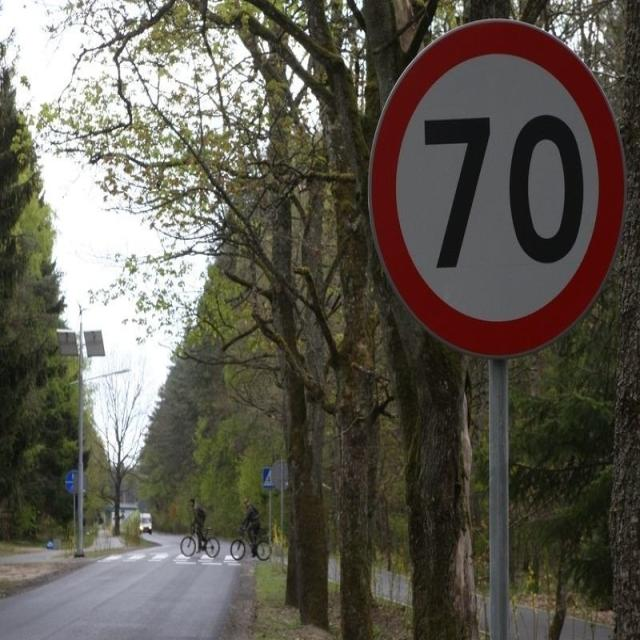Speed Limit -70-: (422, 113, 588, 278)
